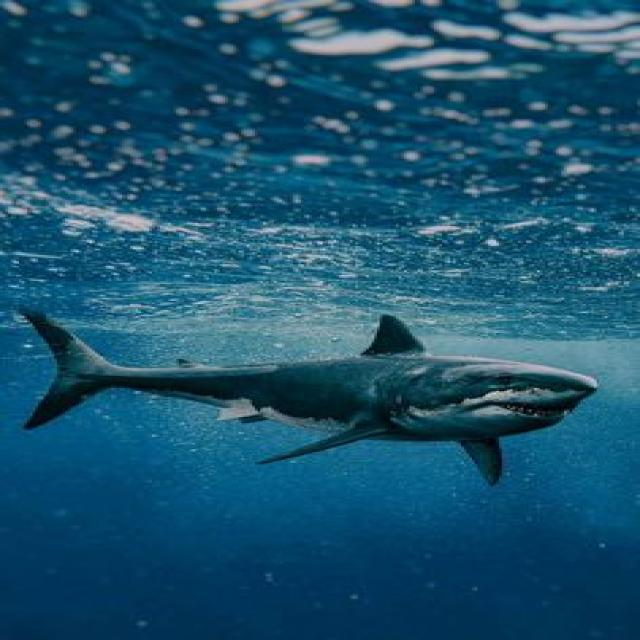Carnivorous: (19, 310, 599, 487)
